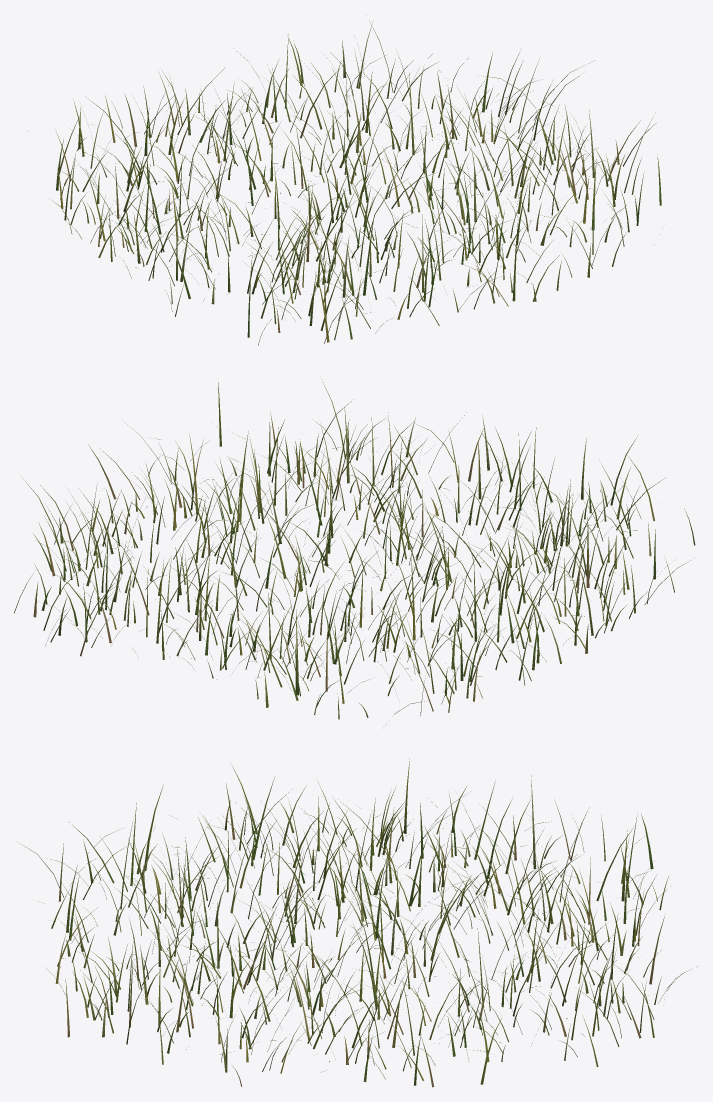
File: sward_a.glb
3 views of the same model, one above another, from view 1: azimuth 30°, elevation 25°; view 2: azimuth 150°, elevation 25°; view 3: azimuth 270°, elevation 25° (orthographic). The views are drawn at different scales.
Visible parts, largest first — view 1: sward_a; view 2: sward_a; view 3: sward_a.
Part boxes in pixels (<box>): sward_a: <box>28,21,661,345</box>; sward_a: <box>14,376,695,725</box>; sward_a: <box>18,758,691,1087</box>.
Bounding box in the file's own units: 1.34 × 0.1806 × 1.33.
